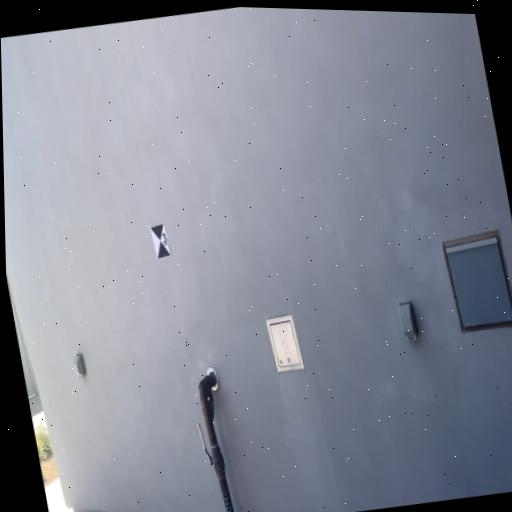target3: (149, 221, 171, 261)
